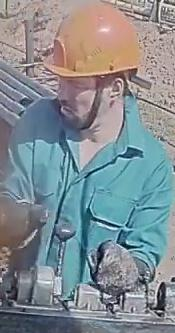gloves: (86, 239, 147, 294), (0, 197, 51, 251)
helmet: (42, 1, 140, 85)
vest: (1, 89, 174, 300)
